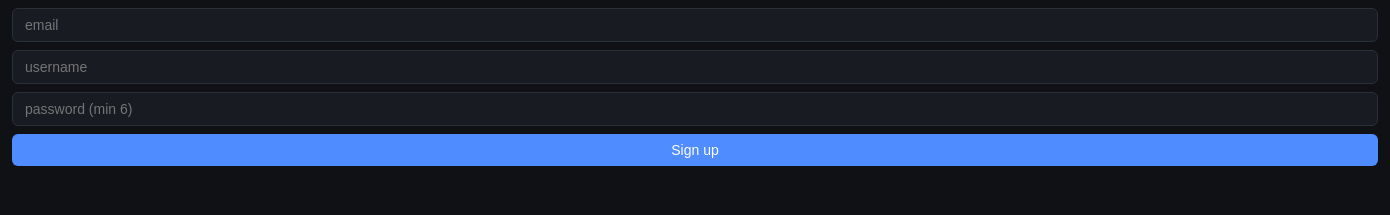
Test case: SignupForm › rejects short password
In the field with placeholder "email": (695, 25) [12,8,1378,42], type "a@x.com"
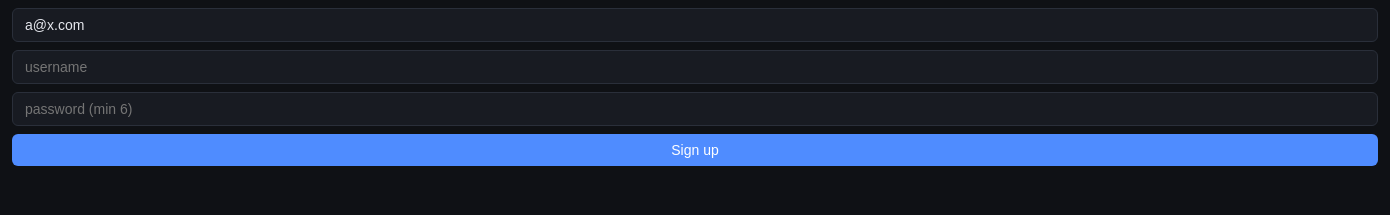
In the field with placeholder "username": (695, 67) [12,50,1378,84], type "alice"
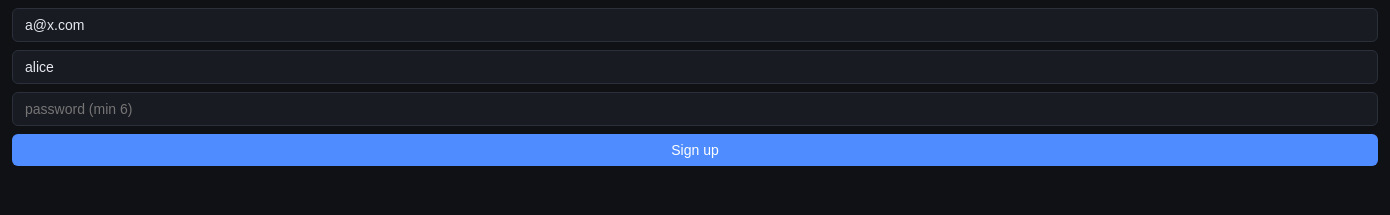
In the password field with placeholder "password (min 6)": (695, 109) [12,92,1378,126], type "abc"
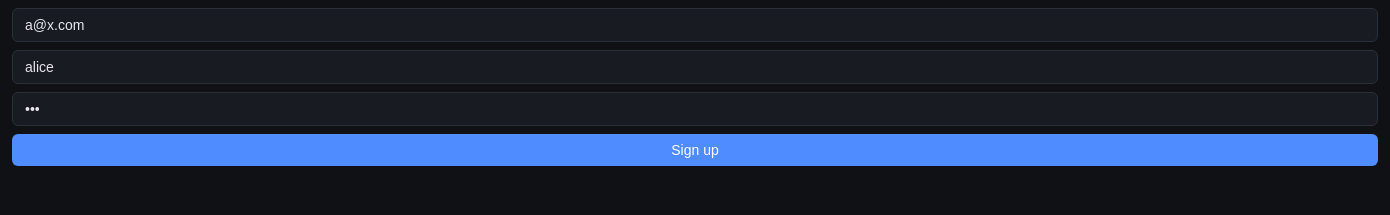
Click the button "Sign up": click(695, 150) [12,134,1378,166]
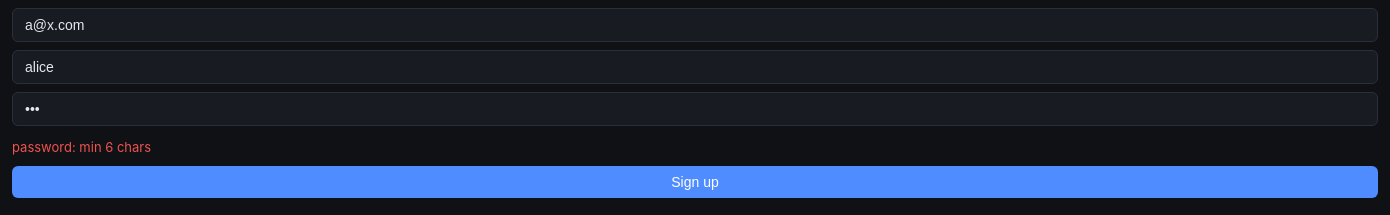
Expected: the text "password: min 6 chars" is shown, [12,139,151,155]
